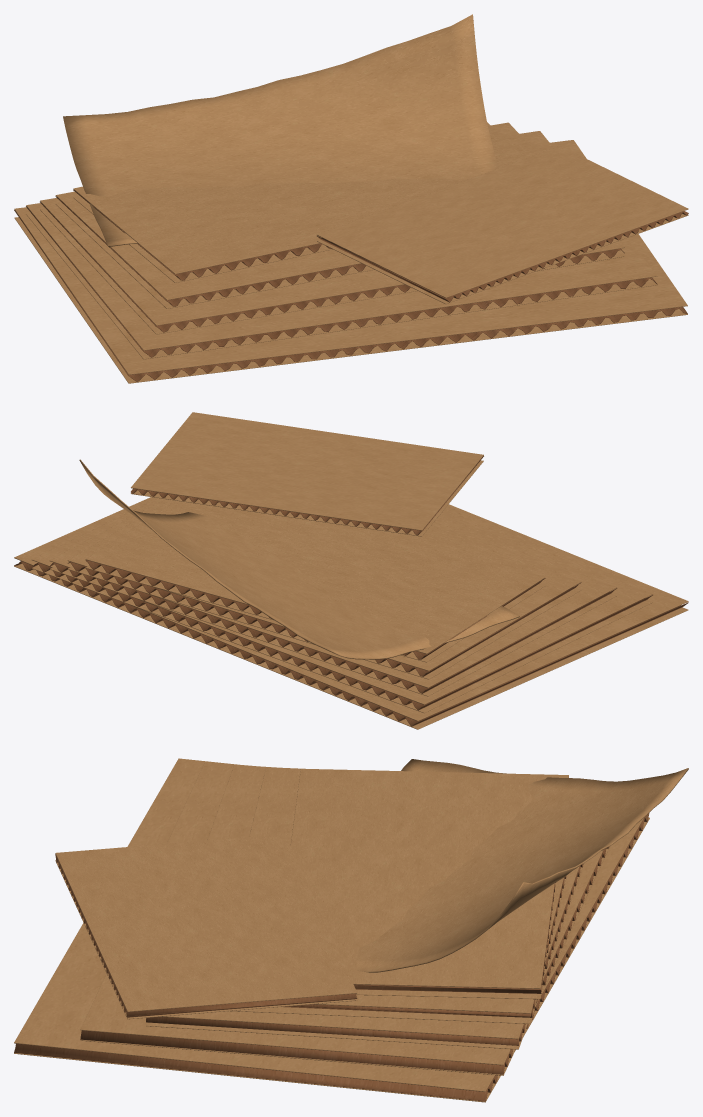
Rendered from microflute.glb.
The picture shows the model from 3 angles, top to bottom: view 1: azimuth 30°, elevation 25°; view 2: azimuth 150°, elevation 25°; view 3: azimuth 270°, elevation 25°; orthographic projection. The views are drawn at different scales.
Visible parts, largest first — view 1: Scored loose kraft liner, Upper kraft liner.005, Upper kraft liner.004, Upper kraft liner, Upper kraft liner.001, Upper kraft liner.002, Upper kraft liner.003, Lower kraft liner, Lower kraft liner.001, Continuous corrugating medium, Continuous corrugating medium.001, Lower kraft liner.002 (+7 smaller); view 2: Upper kraft liner.005, Upper kraft liner.004, Scored loose kraft liner, Upper kraft liner, Upper kraft liner.001, Upper kraft liner.002, Upper kraft liner.003, Lower kraft liner, Continuous corrugating medium, Lower kraft liner.001, Continuous corrugating medium.001, Lower kraft liner.002 (+7 smaller); view 3: Upper kraft liner.005, Upper kraft liner.004, Scored loose kraft liner, Upper kraft liner, Upper kraft liner.001, Upper kraft liner.002, Continuous corrugating medium, Upper kraft liner.003, Continuous corrugating medium.001, Continuous corrugating medium.002, Lower kraft liner.003, Lower kraft liner.002 (+7 smaller).
Boxes of the visible parts, bbox=[...] form: Scored loose kraft liner: bbox=[63, 14, 498, 246]; Upper kraft liner.005: bbox=[317, 146, 688, 297]; Upper kraft liner.004: bbox=[73, 140, 516, 274]; Upper kraft liner: bbox=[14, 140, 687, 374]; Upper kraft liner.001: bbox=[26, 131, 657, 350]; Upper kraft liner.002: bbox=[40, 122, 624, 325]; Upper kraft liner.003: bbox=[55, 122, 525, 300]; Lower kraft liner: bbox=[14, 217, 687, 383]; Lower kraft liner.001: bbox=[26, 213, 657, 359]; Continuous corrugating medium: bbox=[14, 210, 687, 382]; Continuous corrugating medium.001: bbox=[26, 206, 657, 357]; Lower kraft liner.002: bbox=[40, 208, 624, 334]; Upper kraft liner.005: bbox=[131, 412, 483, 530]; Upper kraft liner.004: bbox=[85, 500, 545, 653]; Scored loose kraft liner: bbox=[79, 459, 519, 659]; Upper kraft liner: bbox=[14, 497, 688, 721]; Upper kraft liner.001: bbox=[32, 498, 652, 704]; Upper kraft liner.002: bbox=[49, 499, 617, 687]; Upper kraft liner.003: bbox=[67, 500, 581, 671]; Lower kraft liner: bbox=[14, 563, 688, 729]; Continuous corrugating medium: bbox=[14, 561, 688, 726]; Lower kraft liner.001: bbox=[31, 565, 652, 713]; Continuous corrugating medium.001: bbox=[32, 562, 652, 710]; Lower kraft liner.002: bbox=[49, 566, 617, 696]; Upper kraft liner.005: bbox=[55, 834, 357, 1011]; Upper kraft liner.004: bbox=[290, 768, 568, 988]; Scored loose kraft liner: bbox=[356, 759, 688, 972]; Upper kraft liner: bbox=[14, 758, 644, 1091]; Upper kraft liner.001: bbox=[80, 762, 603, 1065]; Upper kraft liner.002: bbox=[161, 765, 579, 1039]; Continuous corrugating medium: bbox=[14, 813, 649, 1101]; Upper kraft liner.003: bbox=[249, 767, 563, 1013]; Continuous corrugating medium.001: bbox=[80, 847, 608, 1074]; Continuous corrugating medium.002: bbox=[146, 864, 583, 1045]; Lower kraft liner.003: bbox=[230, 875, 566, 1023]; Lower kraft liner.002: bbox=[146, 863, 584, 1049].
Size of the model in its own units: 0.3199 by 0.0767 by 0.2739.
Materials: 2 (2 with a texture image).
